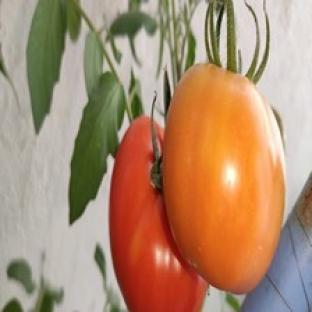Tomato: (163, 65, 284, 293), (109, 117, 207, 311)
